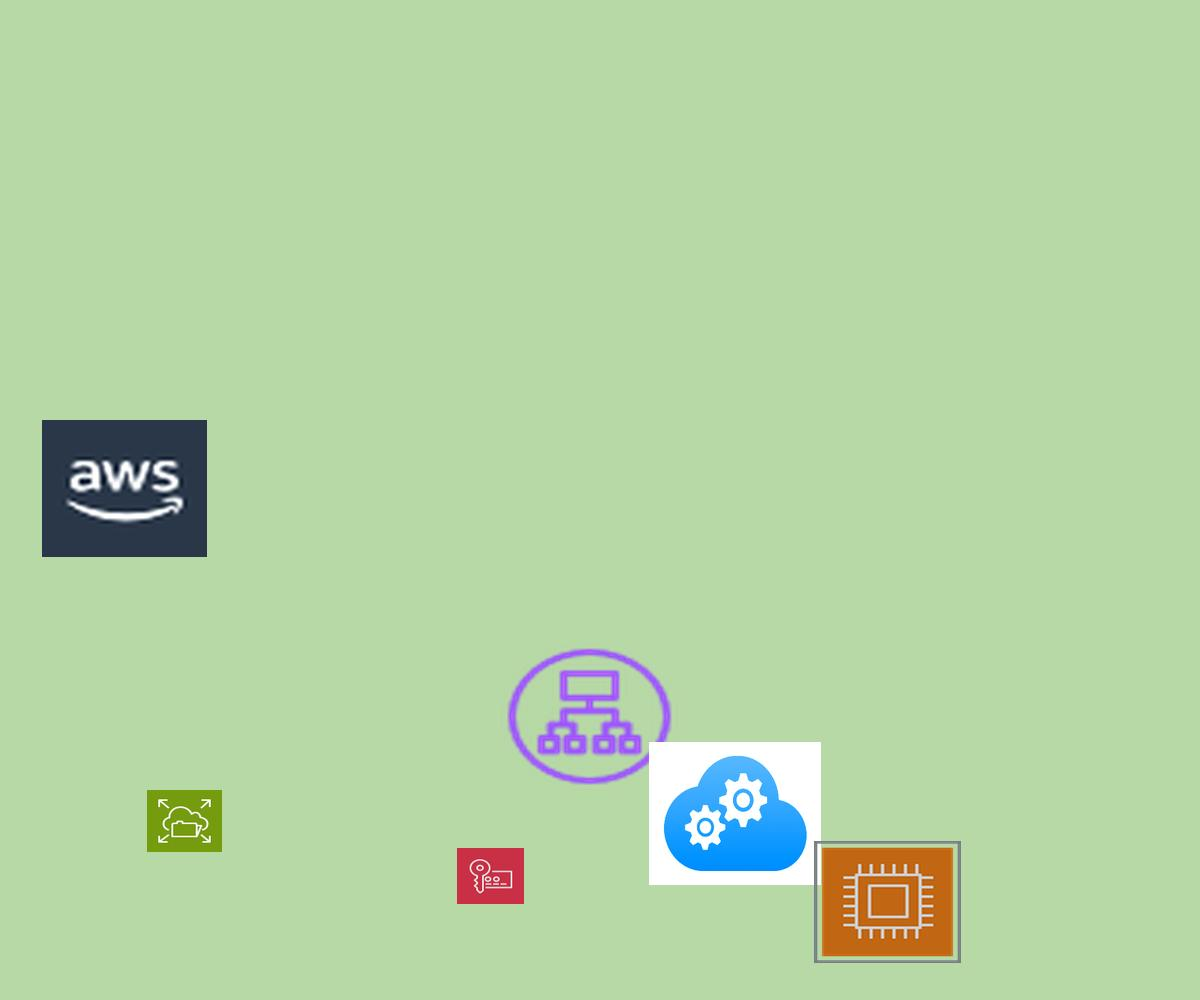AWS-Category_Compute: (814, 841, 961, 963)
AWS-Cloud-logo: (42, 420, 207, 557)
AWS-EFS: (147, 790, 222, 852)
AWS-Key-Management-Service: (457, 848, 524, 904)
AWS-Res_Elastic-Load-Balancing_Application-Load-Balancer: (501, 643, 678, 790)
Azure_cloud_services: (649, 742, 821, 885)
